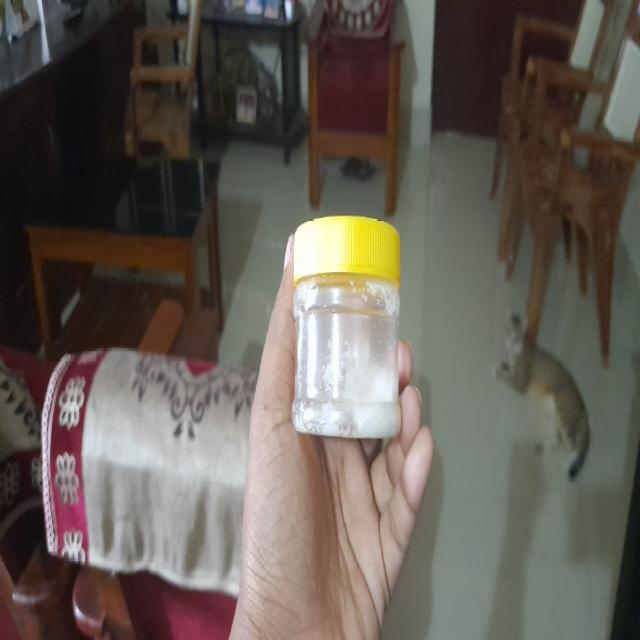Plastic - Recyclable: (290, 213, 402, 440)
